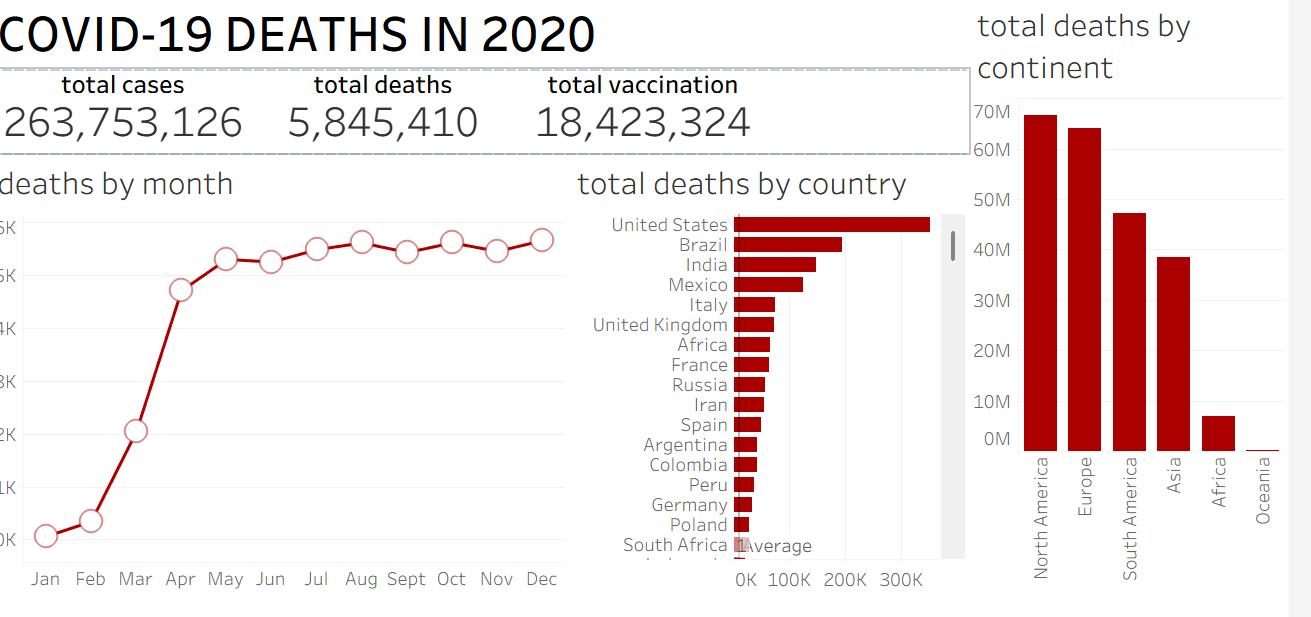

The page's visual inventory and layout, read from the dashboard file:
{"tool":"tableau","page":{"name":"Dashboard 1","canvas":[1000,1000],"units":"permille","ordinal":0},"visuals":[{"type":"text","box":[0,0,753.9,91.7]},{"type":"worksheet","title":"total deaths by continent","mark":"Automatic","rows":["total_deaths"],"cols":["continent"],"box":[753.9,0,246.2,743.5]},{"type":"legend","title":"total deaths by country","param":"[federated.0oeimdl0s67uw51bb4scj17u8lff].[usr:Calculation_0994846083690496:nk:1]","box":[6.2,9.9,987.7,33.5]},{"type":"worksheet","title":"kpis","mark":"Automatic","box":[0,91.7,753.9,104.1]},{"type":"worksheet","title":"deaths by month","mark":"Line","rows":["new_deaths","new_deaths"],"cols":["date"],"box":[0,195.8,446.1,547.7]},{"type":"worksheet","title":"total deaths by country","mark":"Automatic","rows":["location"],"cols":["new_deaths"],"box":[446.1,195.8,307.7,547.7]}]}

Visuals, with their boxes on the dashboard's canvas, which has no fixed pixel size, in thousandths of its width and height (x1, y1, x2, y2). These are canvas units, not pixel positions in the 1311x617 screenshot, which may show the page scaled, cropped or inside an application window:
text: 0, 0, 754, 92
"total deaths by continent" worksheet: 754, 0, 1000, 744
"total deaths by country" legend: 6, 10, 994, 43
"kpis" worksheet: 0, 92, 754, 196
"deaths by month" worksheet (Line marks): 0, 196, 446, 744
"total deaths by country" worksheet: 446, 196, 754, 744
